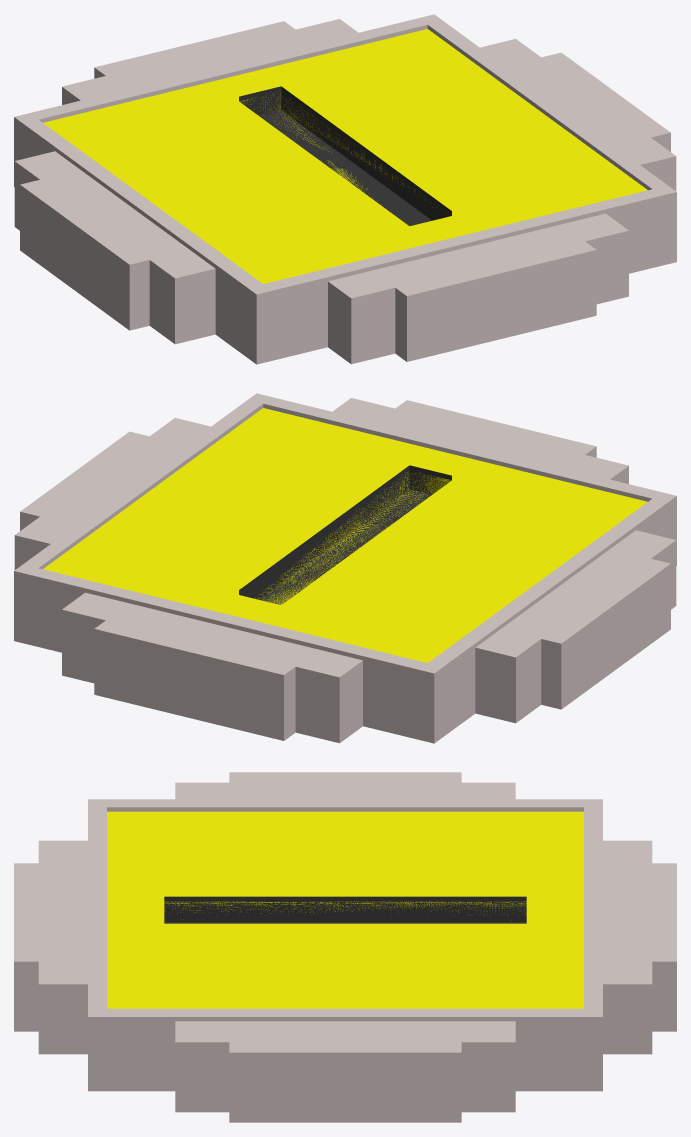
The model's file is OneCoin.fbx.
3 renders of one model, top to bottom at view 1: azimuth 30°, elevation 25°; view 2: azimuth 150°, elevation 25°; view 3: azimuth 270°, elevation 25°, orthographic. The views are drawn at different scales.
Visible parts, largest first — view 1: 立方体, 文本.001; view 2: 立方体, 文本.001; view 3: 立方体, 文本.001.
Part boxes in pixels (bbox=[...]): 立方体: bbox=[14, 14, 676, 364]; 文本.001: bbox=[239, 86, 451, 226]; 立方体: bbox=[14, 393, 676, 743]; 文本.001: bbox=[239, 465, 451, 604]; 立方体: bbox=[14, 772, 676, 1122]; 文本.001: bbox=[164, 896, 526, 923].
Bounding box in the file's own units: 610 × 76.03 × 610.
